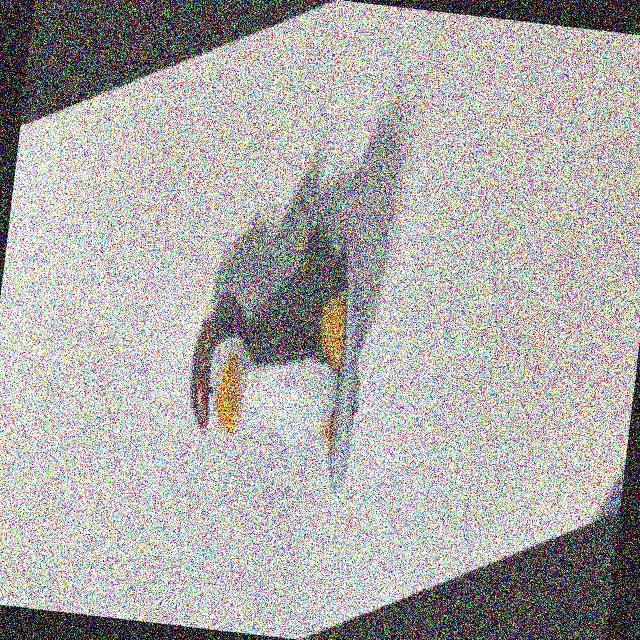Penguin: (150, 159, 403, 593)
